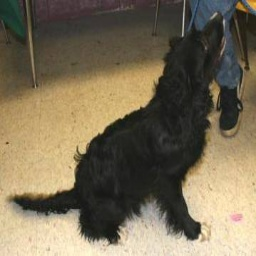dog: (16, 8, 227, 242)
